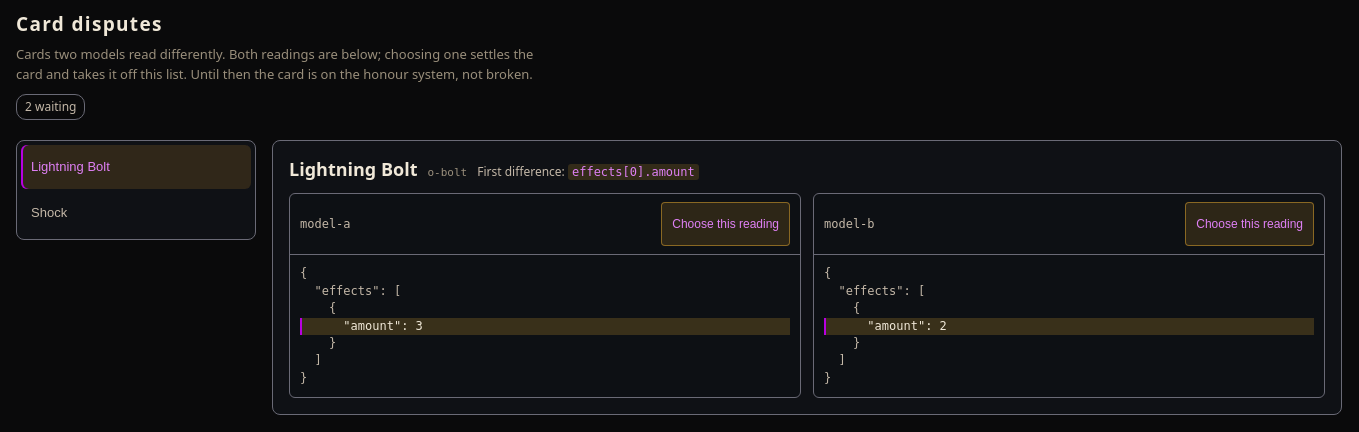
Test case: CardDisputesComponent › posts the chosen model and advances to the next card
The image size is (1359, 432).
Click the button with class "cd-choose" in the row of "model-b". click: [1250, 224]
box: [1185, 202, 1314, 246]
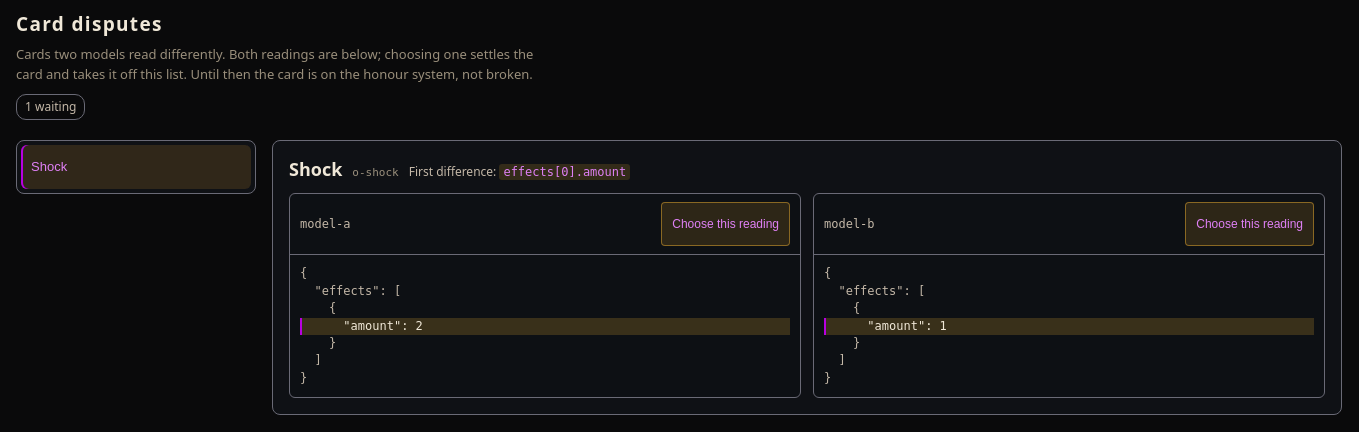
Result: the text "o-shock" is shown at [352, 164, 399, 181]
